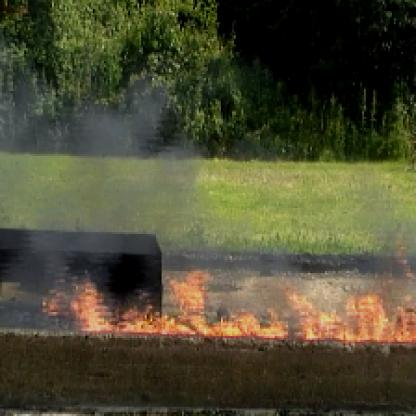Fire: (56, 268, 414, 349)
Smoke: (2, 44, 212, 264)
